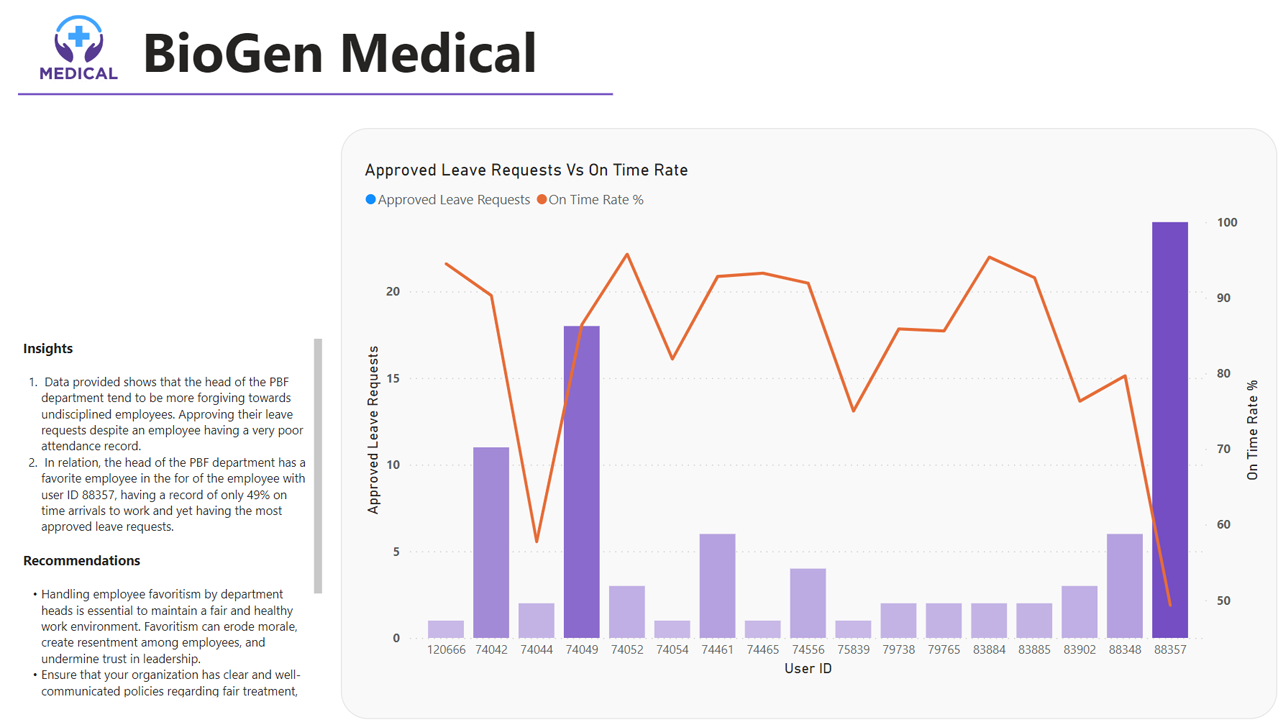

Layout of this report page (visuals, bound fields, positions):
{"tool":"powerbi","page":{"name":"Q3","canvas":[1280,720],"ordinal":2},"visuals":[{"type":"shape","box":[340.3,127.3,929.8,586.9],"z":0},{"type":"lineClusteredColumnComboChart","title":"Approved Leave Requests Vs On Time Rate","fields":{"Y2":["Avg(Attendance_Summary.On Time Rate %)"],"Category":["users_clean.department","leave_requests_clean.user_id"],"Y":["CountNonNull(leave_requests_clean.status)"]},"box":[358.7,158.3,898.2,518.3],"z":1000},{"type":"textbox","box":[19.1,331.7,306.6,366],"z":2000},{"type":"textbox","box":[137.4,8.5,418.8,89],"z":3000},{"type":"shape","box":[19,81.1,590.9,24.2],"z":4000},{"type":"image","box":[19,4.6,118.4,89],"z":5000}]}

Visuals, with their boxes in screenshot pixels (x1, y1, x2, y2), scaled from the page's 1280x720 canvas onto the 1280x720 screenshot:
shape: l=340, t=127, r=1270, b=714
"Approved Leave Requests Vs On Time Rate" lineClusteredColumnComboChart: l=359, t=158, r=1257, b=677
textbox: l=19, t=332, r=326, b=698
textbox: l=137, t=8, r=556, b=98
shape: l=19, t=81, r=610, b=105
image: l=19, t=5, r=137, b=94
